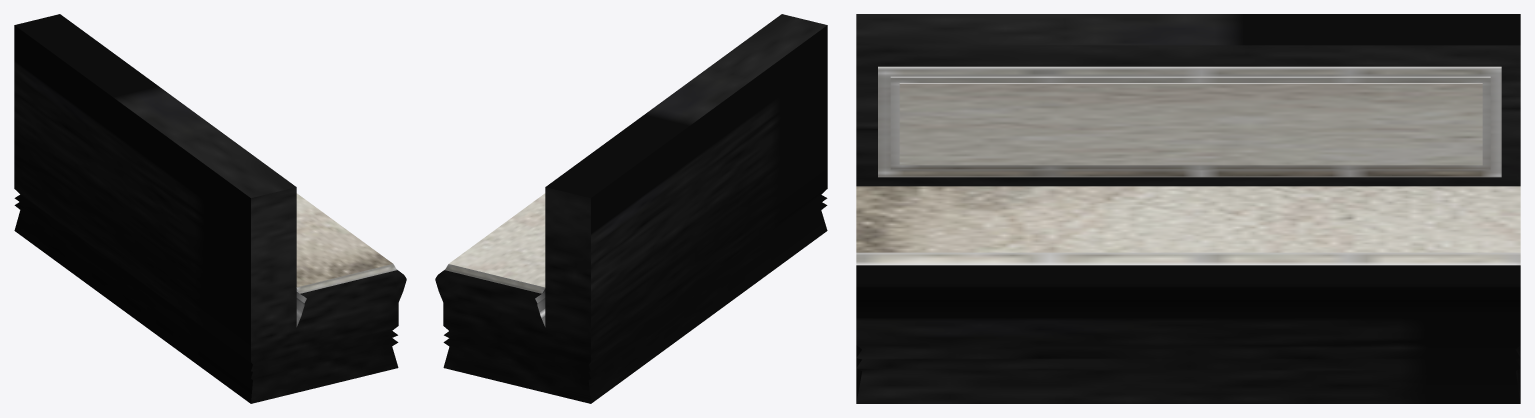
Rendered from Booth.fbx.
3 views of the same model, side by side, from view 1: azimuth 30°, elevation 25°; view 2: azimuth 150°, elevation 25°; view 3: azimuth 270°, elevation 25° (orthographic). The views are drawn at different scales.
Visible parts, largest first — view 1: pCube1; view 2: pCube1; view 3: pCube1.
Part boxes in pixels (x1,y1,x2,y2): pCube1: (14,14,406,403); pCube1: (435,14,827,403); pCube1: (856,14,1520,403).
Bounding box in the file's own units: 2.5 × 3.17 × 6.6.
